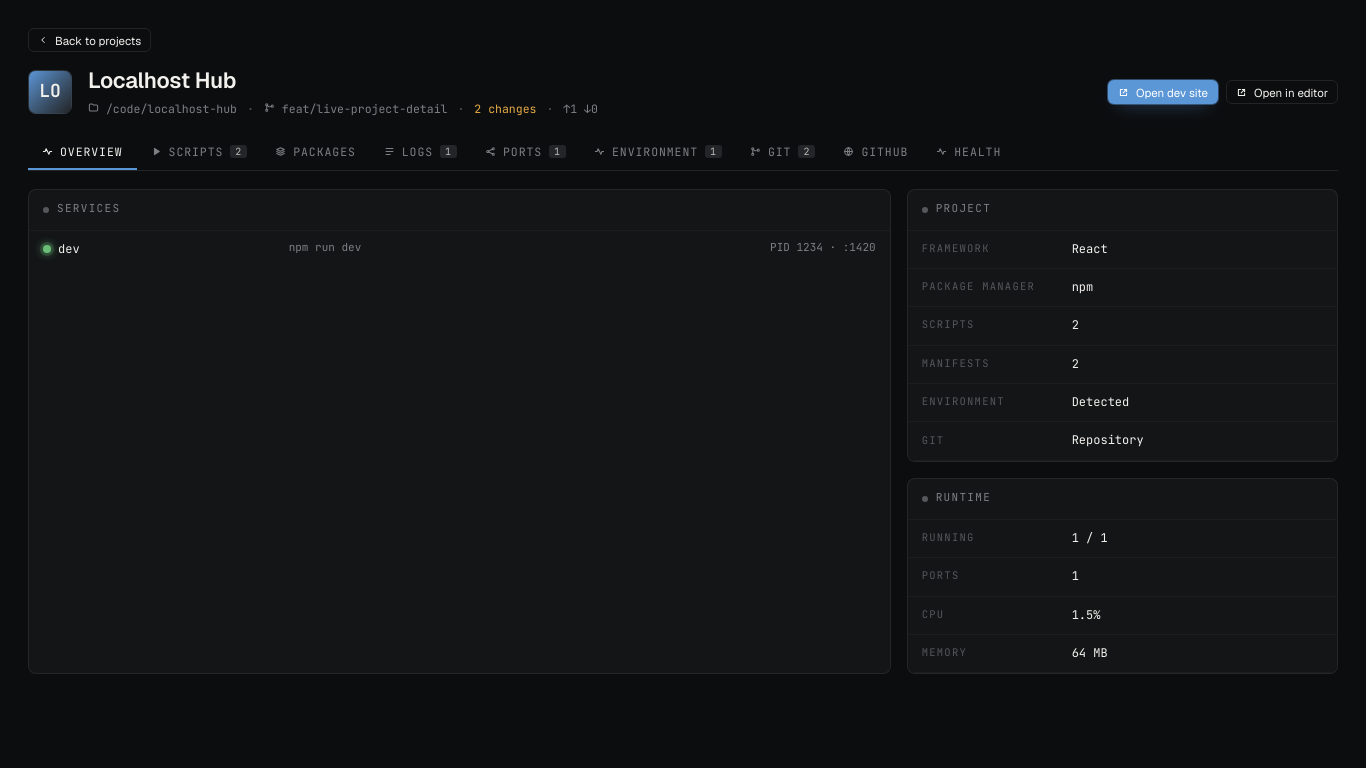
Test: ProjectView › shows masked project environment profiles
Click the button "Environment 1": (658, 152) x1=580 y1=135 x2=736 y2=170
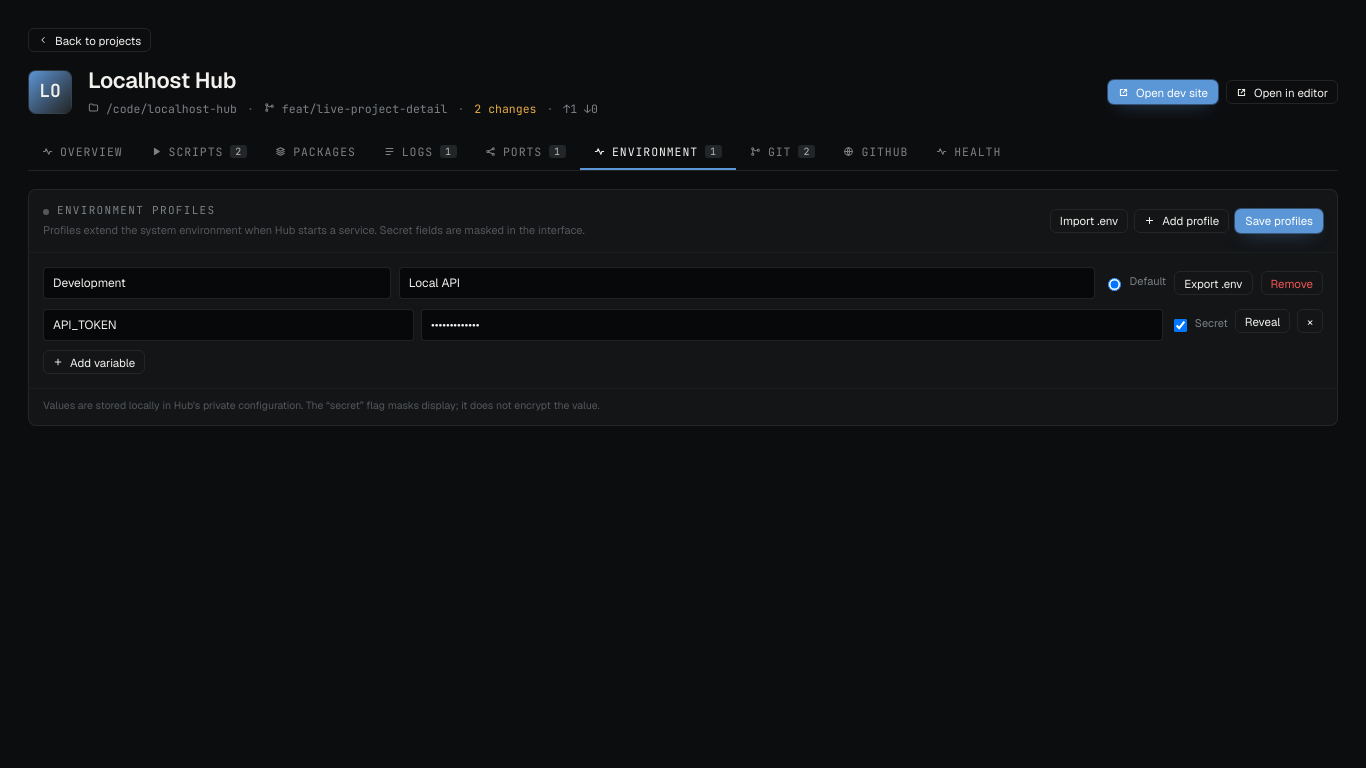
Expected: the field showing "Development" is shown, x1=43 y1=267 x2=391 y2=299
